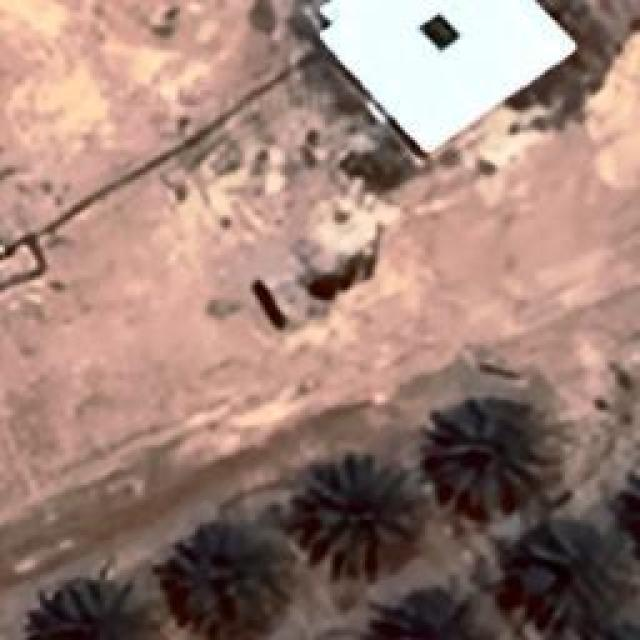PalmTree: (152, 519, 296, 639), (300, 450, 428, 580), (424, 398, 558, 512), (30, 570, 168, 635), (522, 530, 610, 620), (368, 582, 482, 640), (607, 473, 640, 558)
